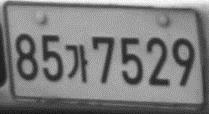2: (145, 36, 170, 86)
5: (120, 37, 143, 85), (41, 33, 63, 81)
7: (91, 35, 114, 84)
8: (14, 32, 38, 80)
9: (171, 36, 195, 86)
가: (64, 44, 88, 82)
